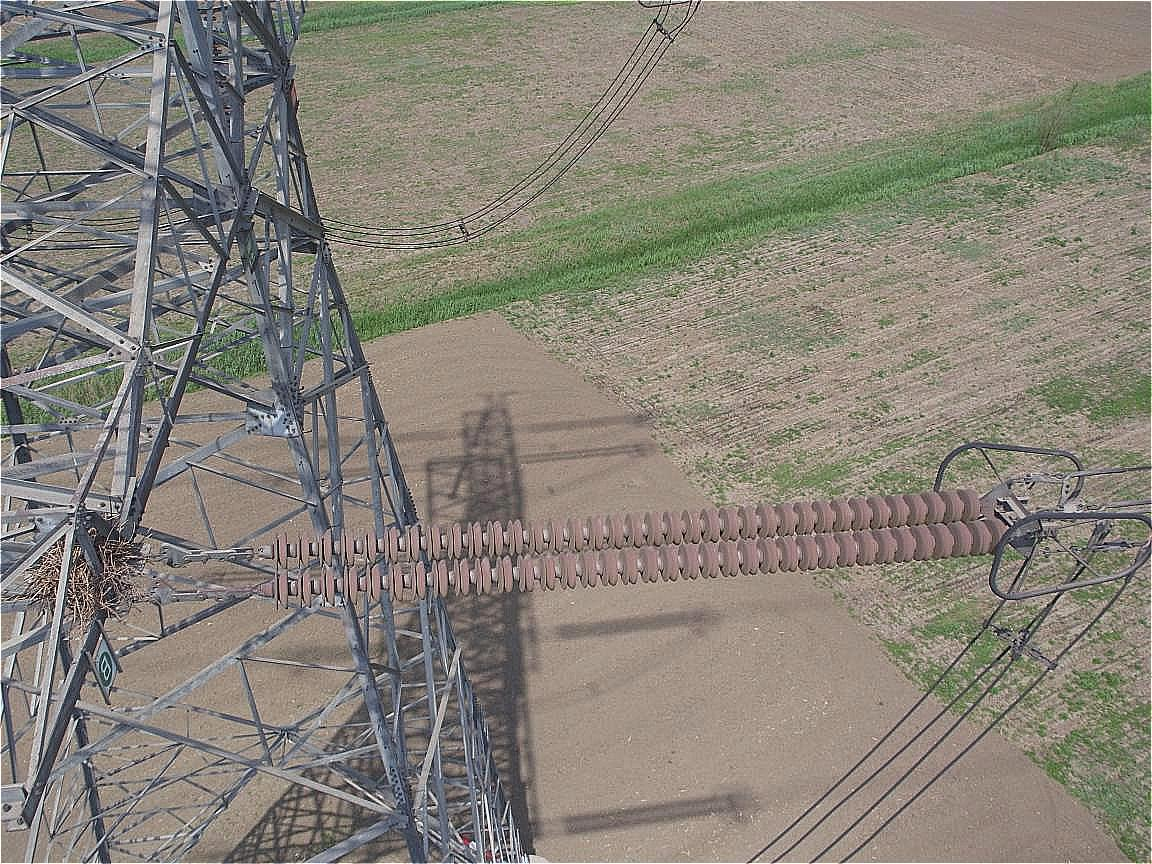insultor2: (245, 475, 1022, 609)
